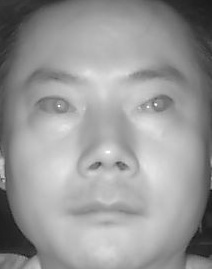eye: (34, 92, 78, 120), (134, 91, 178, 118)
mouth: (63, 189, 144, 230)
